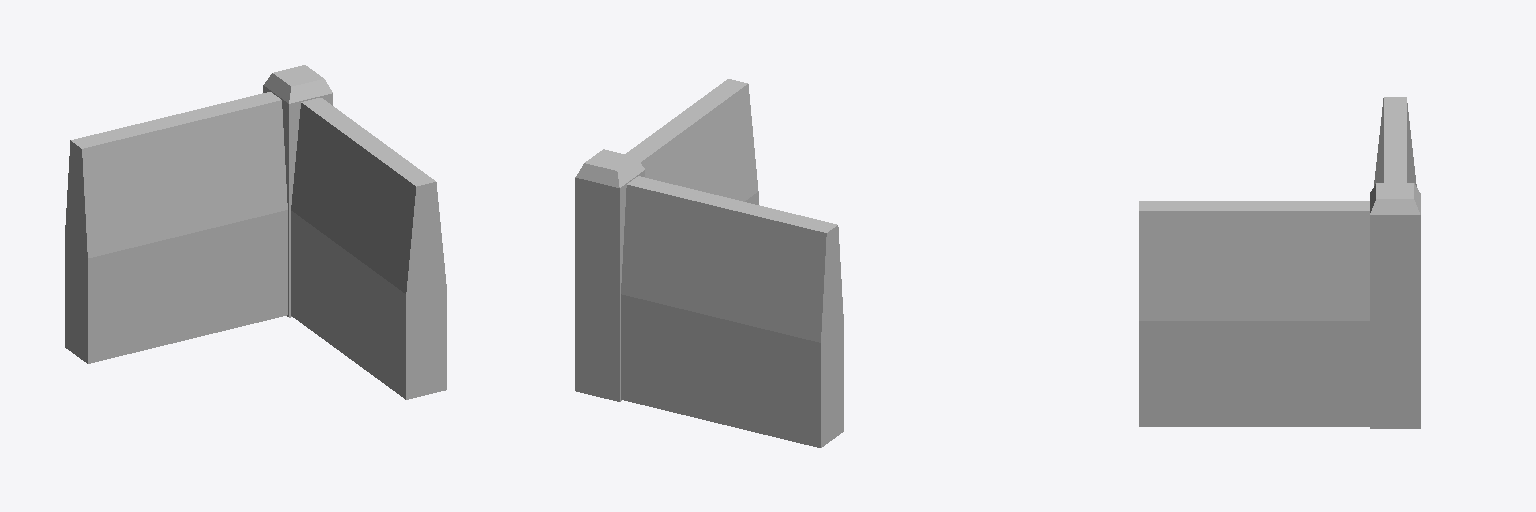
File: Ограда 2.obj
3 renders of one model, left to right at view 1: azimuth 30°, elevation 25°; view 2: azimuth 150°, elevation 25°; view 3: azimuth 270°, elevation 25°, orthographic.
Visible parts, largest first — view 1: Cube.002, Cube, Cube.001; view 2: Cube.002, Cube.001, Cube; view 3: Cube, Cube.001, Cube.002.
Part boxes in pixels (bbox=[...]): Cube.002: bbox=[65, 92, 287, 363]; Cube: bbox=[291, 98, 446, 399]; Cube.001: bbox=[263, 65, 332, 317]; Cube.002: bbox=[621, 176, 843, 447]; Cube.001: bbox=[575, 149, 644, 401]; Cube: bbox=[625, 79, 758, 204]; Cube: bbox=[1139, 201, 1369, 426]; Cube.001: bbox=[1370, 183, 1420, 428]; Cube.002: bbox=[1374, 97, 1416, 186].
Size of the model in its own units: 2.42 by 2.15 by 2.42.